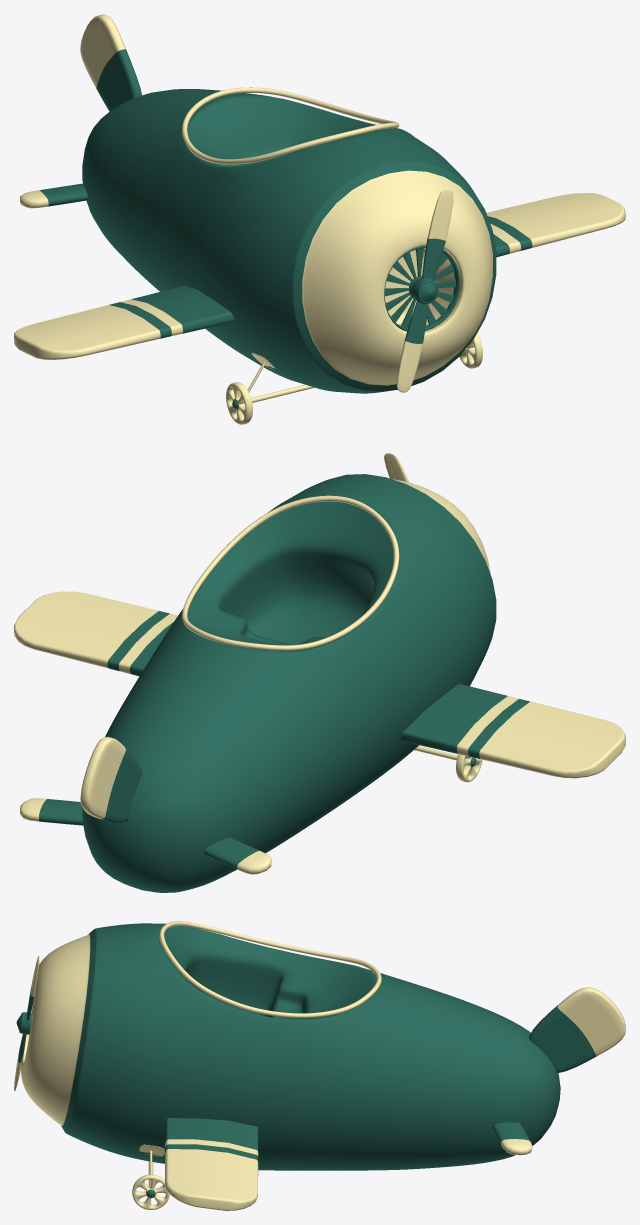
Rendered from aeroplano.fbx.
3 renders of one model, top to bottom at view 1: azimuth 30°, elevation 25°; view 2: azimuth 150°, elevation 25°; view 3: azimuth 270°, elevation 25°, orthographic. The views are drawn at different scales.
Visible parts, largest first — view 1: Cube, Plane.005, Cube.008, Cylinder.001, Cube.011, Cube.009, Circle, Cube.010, Cylinder; view 2: Cube, Plane.005, Cube.008, Cube.011, Cube.010; view 3: Cube, Plane.005, Cube.008, Cube.011, Cube.010, Circle, Cylinder.001.
Part boxes in pixels (bbox=[...]): Cube: bbox=[82, 89, 496, 393]; Plane.005: bbox=[14, 193, 625, 359]; Cube.008: bbox=[80, 14, 141, 111]; Cylinder.001: bbox=[397, 189, 453, 392]; Cube.011: bbox=[182, 87, 399, 164]; Cube.009: bbox=[384, 245, 459, 331]; Circle: bbox=[226, 333, 482, 424]; Cube.010: bbox=[20, 183, 88, 208]; Cylinder: bbox=[409, 276, 438, 304]; Cube: bbox=[82, 474, 496, 892]; Plane.005: bbox=[14, 591, 625, 778]; Cube.008: bbox=[80, 736, 142, 823]; Cube.011: bbox=[182, 495, 399, 650]; Cube.010: bbox=[20, 798, 271, 874]; Cube: bbox=[21, 923, 560, 1170]; Plane.005: bbox=[165, 1118, 258, 1210]; Cube.008: bbox=[529, 987, 625, 1073]; Cube.011: bbox=[159, 921, 381, 1017]; Cube.010: bbox=[492, 1122, 532, 1155]; Circle: bbox=[132, 1174, 169, 1209]; Cylinder.001: bbox=[14, 956, 39, 1091].
Size of the model in its own units: 26.2 by 11.08 by 27.
